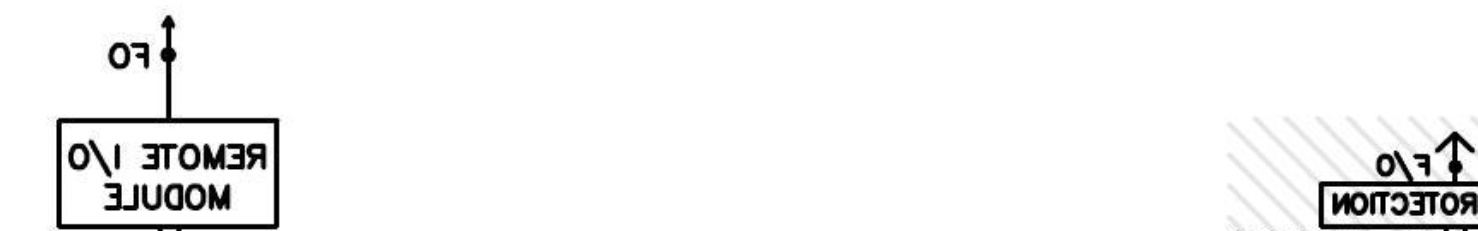remote_io_module: (56, 117, 280, 230)
